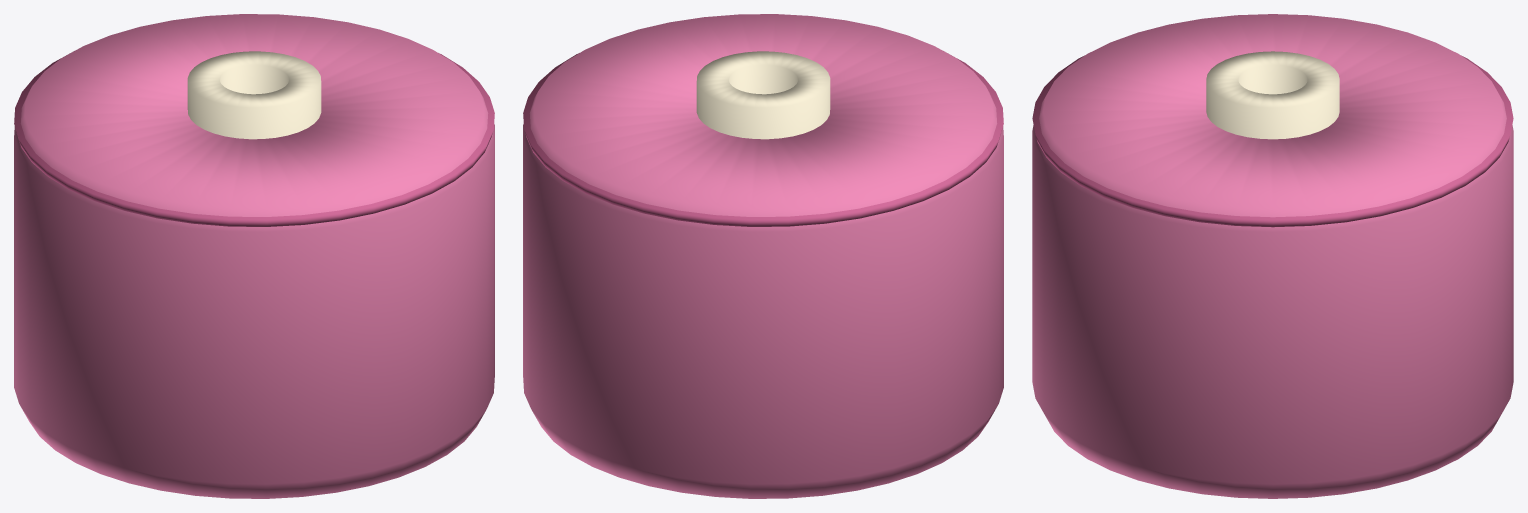
The model's file is workbench_spool.glb.
3 views of the same model, side by side, from view 1: azimuth 30°, elevation 25°; view 2: azimuth 150°, elevation 25°; view 3: azimuth 270°, elevation 25° (orthographic).
Parts seen in each view (by area): view 1: Pink_ribbon, Hollow_ivory_spindle, Spool_edge.001; view 2: Pink_ribbon, Hollow_ivory_spindle, Spool_edge.001; view 3: Pink_ribbon, Hollow_ivory_spindle, Spool_edge.001.
Boxes of the visible parts, x1,y1,x2,y2 form: Pink_ribbon: (14, 14, 494, 498); Hollow_ivory_spindle: (187, 51, 321, 139); Spool_edge.001: (14, 53, 494, 226); Pink_ribbon: (523, 14, 1003, 498); Hollow_ivory_spindle: (696, 51, 830, 139); Spool_edge.001: (523, 53, 1003, 226); Pink_ribbon: (1032, 14, 1513, 498); Hollow_ivory_spindle: (1206, 51, 1339, 139); Spool_edge.001: (1032, 55, 1513, 227).
Size of the model in its own units: 0.18 by 0.135 by 0.18.
